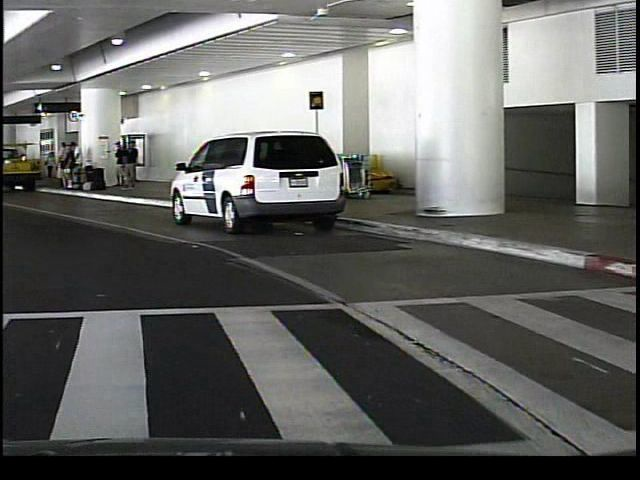person: (51, 139, 66, 190), (123, 139, 138, 188)
